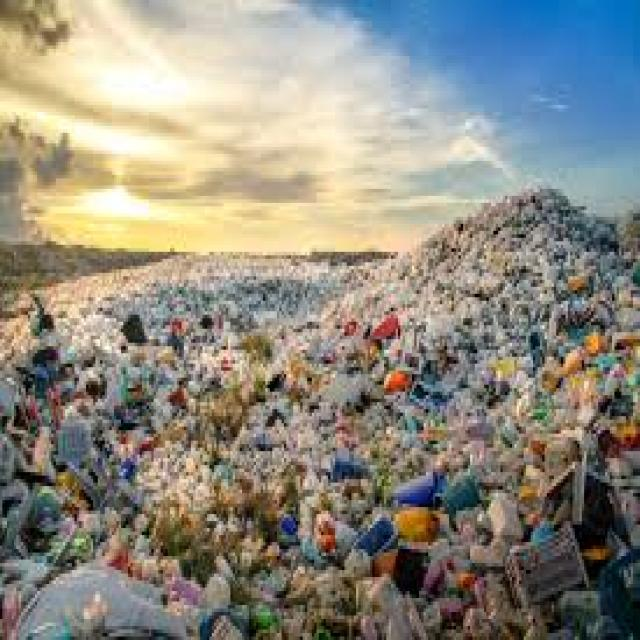plastic: (113, 281, 636, 640)
